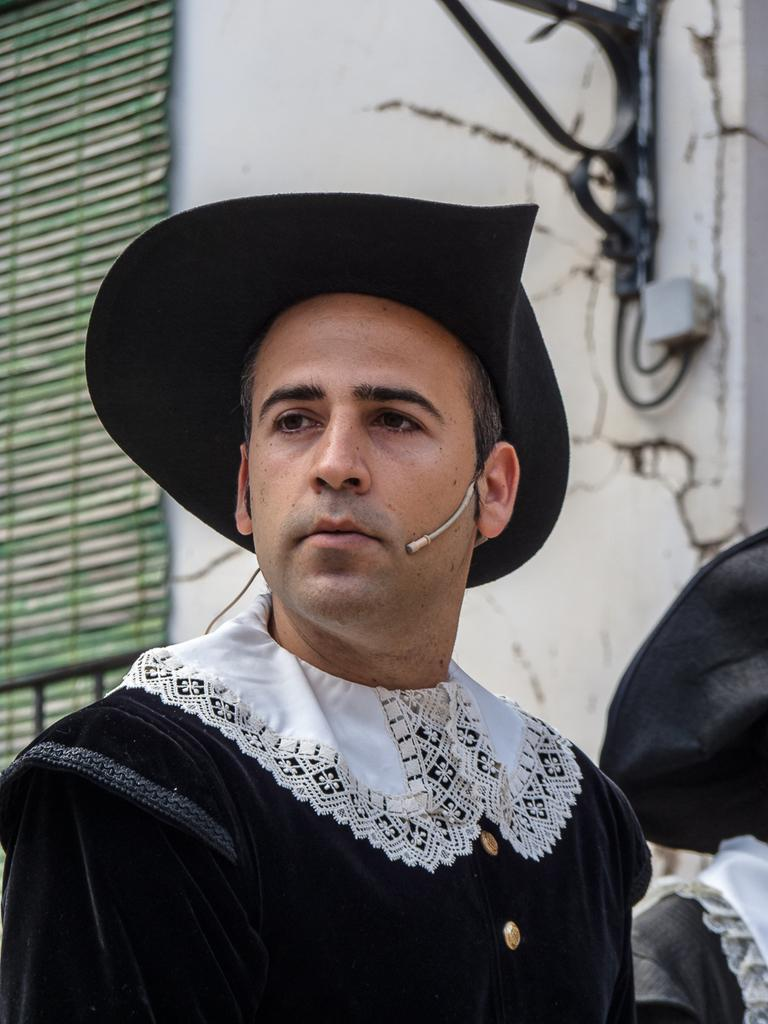Hat: (86, 190, 572, 590), (594, 528, 766, 858)
